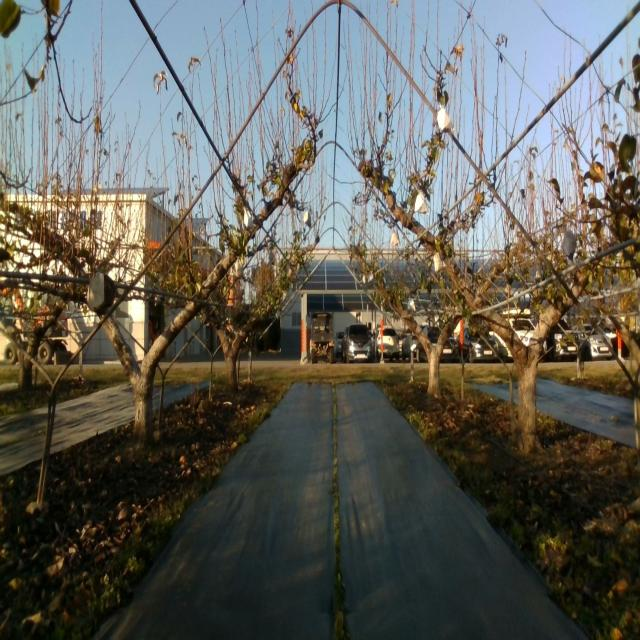pearbags: (560, 223, 578, 260), (437, 106, 454, 133), (414, 192, 430, 216), (433, 252, 447, 275)
